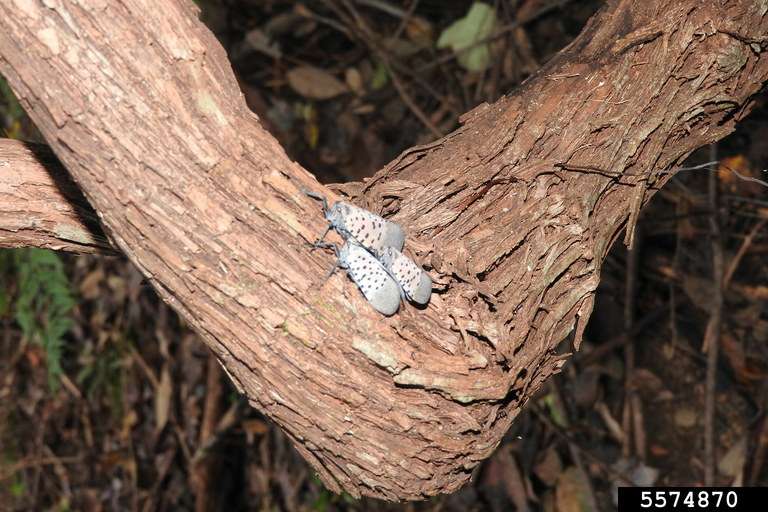adult: (311, 178, 427, 233), (317, 249, 373, 343), (372, 257, 413, 321)
